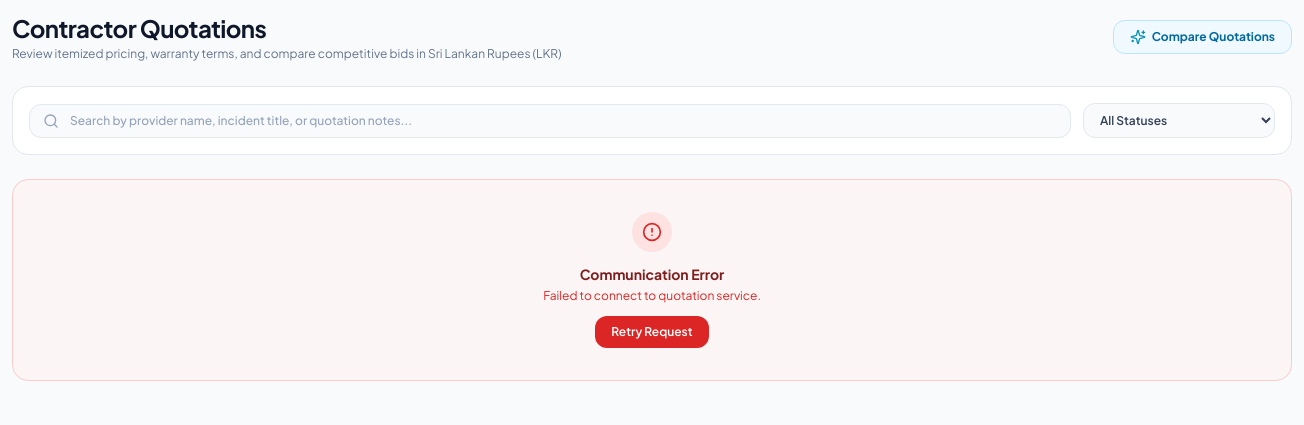
it: QuotationListPage › displays error state and retries fetching on user retry action
The image size is (1304, 425).
Expected: the text "Failed to connect to quotation service." is shown, [543, 288, 761, 304]
Click the button "Retry Request". click: (652, 332)
box: [595, 316, 709, 348]
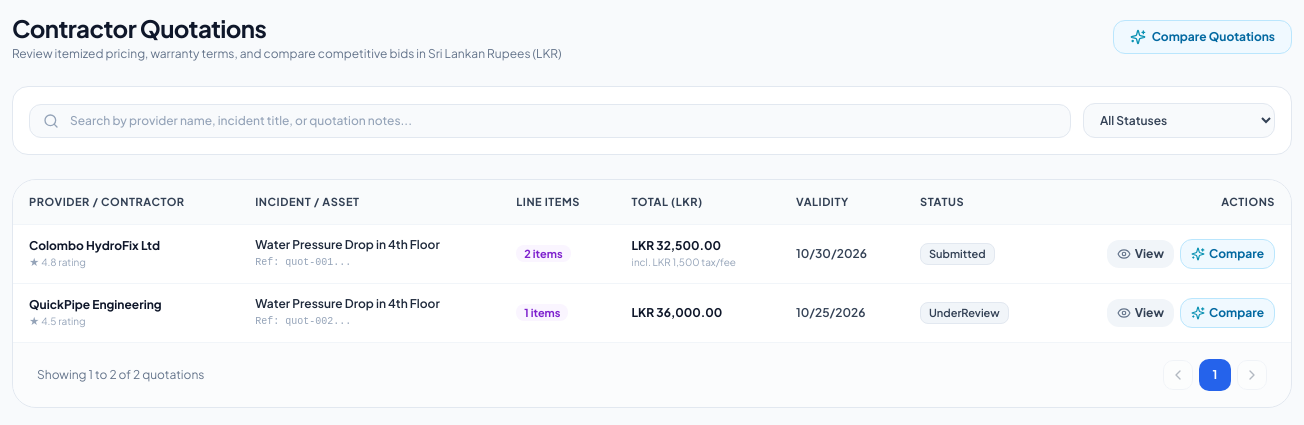
Now the text "Colombo HydroFix Ltd" is shown, box [29, 238, 160, 253]
